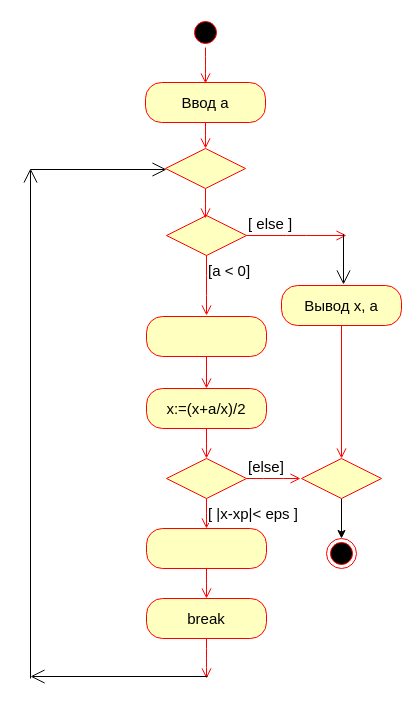
Image size: 419x710. Some labels were removed from this diagram. The centre of each missing label's shape, as x and y in pixels:
"Activity" goes at (x=206, y=548).
"sp:=x;" goes at (x=206, y=336).
